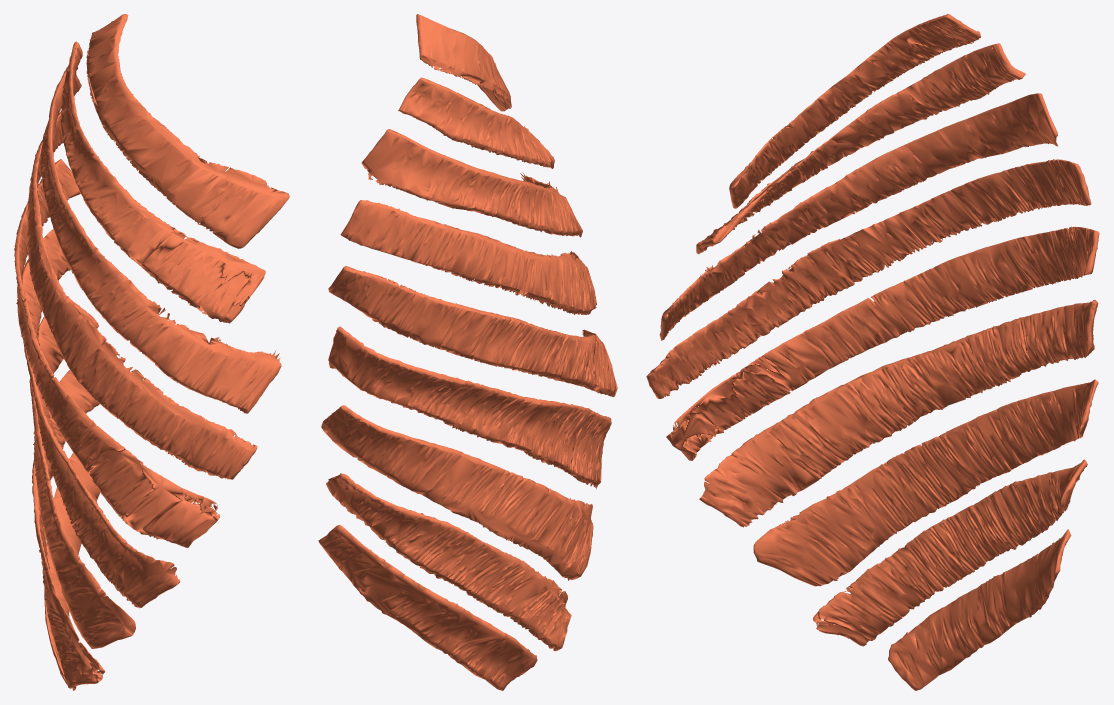
Rendered from Innermost_intercostal_muscles.r_Generated_Mesh_From_X3D.458.glb.
3 renders of one model, left to right at view 1: azimuth 30°, elevation 25°; view 2: azimuth 150°, elevation 25°; view 3: azimuth 270°, elevation 25°, orthographic. The views are drawn at different scales.
Visible parts, largest first — view 1: Innermost_intercostal_muscles.r_Generated_Mesh_From_X3D.458; view 2: Innermost_intercostal_muscles.r_Generated_Mesh_From_X3D.458; view 3: Innermost_intercostal_muscles.r_Generated_Mesh_From_X3D.458.
Boxes of the visible parts, <box> form: Innermost_intercostal_muscles.r_Generated_Mesh_From_X3D.458: <box>14,14,289,690</box>; Innermost_intercostal_muscles.r_Generated_Mesh_From_X3D.458: <box>318,14,617,690</box>; Innermost_intercostal_muscles.r_Generated_Mesh_From_X3D.458: <box>646,14,1099,690</box>.
Bounding box in the file's own units: 0.0919 × 0.3248 × 0.1874.
